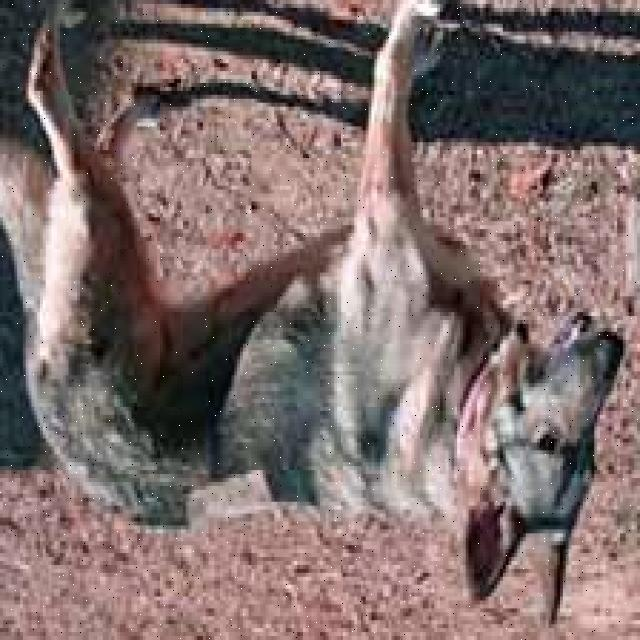Dog: (460, 285, 634, 632)
